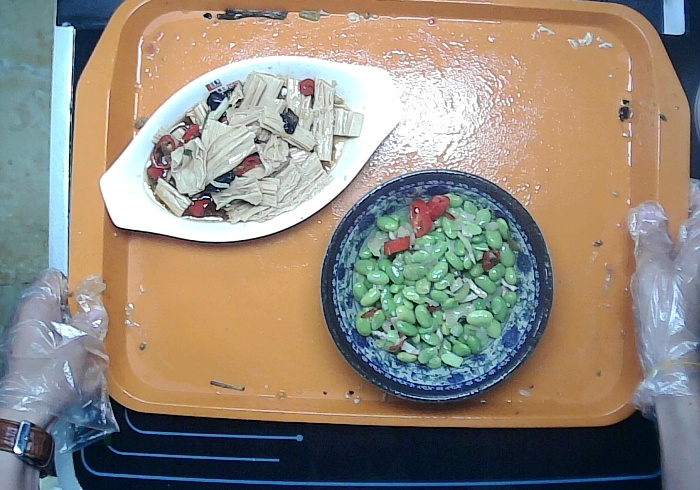ZNLD-Qing_Hua_Wan: (319, 173, 553, 407)
ZNLD-Yu_Pan: (98, 58, 398, 247)
